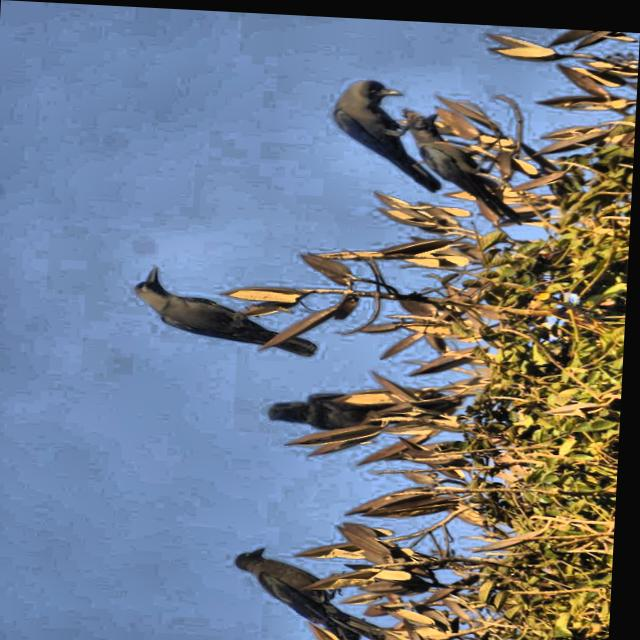crow: (102, 271, 334, 359), (213, 533, 392, 640), (328, 65, 411, 179)
